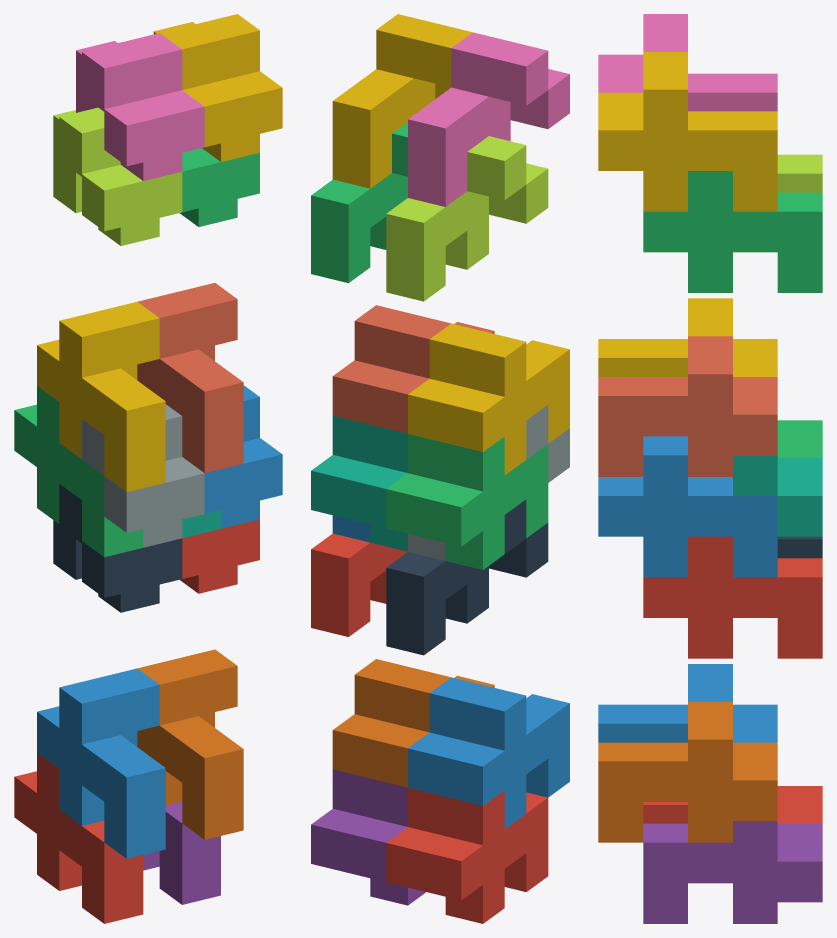
File: tiling.obj
3 renders of one model, left to right at view 1: azimuth 30°, elevation 25°; view 2: azimuth 150°, elevation 25°; view 3: azimuth 270°, elevation 25°, orthographic. The views are drawn at different scales.
Parts seen in each view (by area): view 1: copy_1_domain_2, copy_1_domain_4, copy_1_domain_6, copy_1_domain_8, copy_2_domain_4, copy_2_domain_8, copy_1_domain_1, copy_2_domain_3, copy_1_domain_3, copy_2_domain_2, copy_2_domain_1, copy_2_domain_6 (+4 smaller); view 2: copy_1_domain_2, copy_1_domain_4, copy_2_domain_4, copy_1_domain_1, copy_1_domain_3, copy_2_domain_3, copy_2_domain_8, copy_2_domain_1, copy_1_domain_8, copy_1_domain_6, copy_1_domain_5, copy_1_domain_7 (+4 smaller); view 3: copy_2_domain_8, copy_1_domain_6, copy_1_domain_8, copy_2_domain_6, copy_1_domain_5, copy_2_domain_7, copy_2_domain_5, copy_2_domain_4, copy_1_domain_2, copy_1_domain_4, copy_1_domain_7, copy_1_domain_1 (+3 smaller).
Boxes of the visible parts, x1,y1,x2,y2 form: copy_1_domain_2: [37, 668, 165, 858]; copy_1_domain_4: [37, 302, 165, 491]; copy_1_domain_6: [137, 649, 243, 839]; copy_1_domain_8: [137, 283, 243, 473]; copy_2_domain_4: [76, 33, 204, 180]; copy_2_domain_8: [153, 14, 282, 161]; copy_1_domain_1: [14, 753, 143, 923]; copy_2_domain_3: [53, 107, 182, 245]; copy_1_domain_3: [14, 386, 143, 557]; copy_2_domain_2: [82, 404, 204, 547]; copy_2_domain_1: [53, 484, 182, 612]; copy_2_domain_6: [204, 385, 282, 528]; copy_1_domain_2: [408, 677, 569, 828]; copy_1_domain_4: [408, 323, 569, 475]; copy_2_domain_4: [408, 32, 569, 206]; copy_1_domain_1: [386, 788, 548, 923]; copy_1_domain_3: [386, 434, 548, 569]; copy_2_domain_3: [386, 136, 548, 301]; copy_2_domain_8: [332, 14, 472, 188]; copy_2_domain_1: [386, 499, 548, 655]; copy_1_domain_8: [332, 305, 494, 433]; copy_1_domain_6: [332, 659, 494, 787]; copy_1_domain_5: [311, 769, 425, 905]; copy_1_domain_7: [311, 415, 407, 551]; copy_2_domain_8: [598, 52, 777, 211]; copy_1_domain_6: [598, 702, 777, 842]; copy_1_domain_8: [598, 336, 777, 476]; copy_2_domain_6: [598, 436, 777, 577]; copy_1_domain_5: [643, 821, 822, 923]; copy_2_domain_7: [643, 171, 822, 292]; copy_2_domain_5: [643, 536, 822, 658]; copy_2_domain_4: [598, 14, 777, 111]; copy_1_domain_2: [598, 664, 777, 742]; copy_1_domain_4: [598, 298, 777, 376]; copy_1_domain_7: [733, 455, 822, 536]; copy_1_domain_1: [643, 786, 822, 823].
Size of the model in its own units: 4 by 21 by 5.
